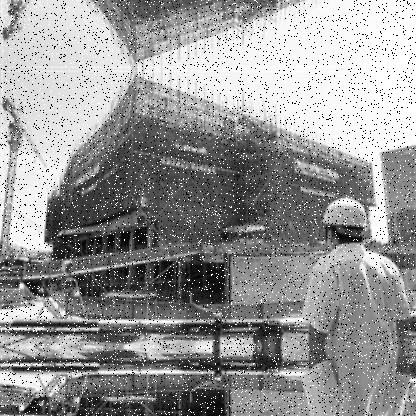Helmet: (316, 196, 375, 256)
